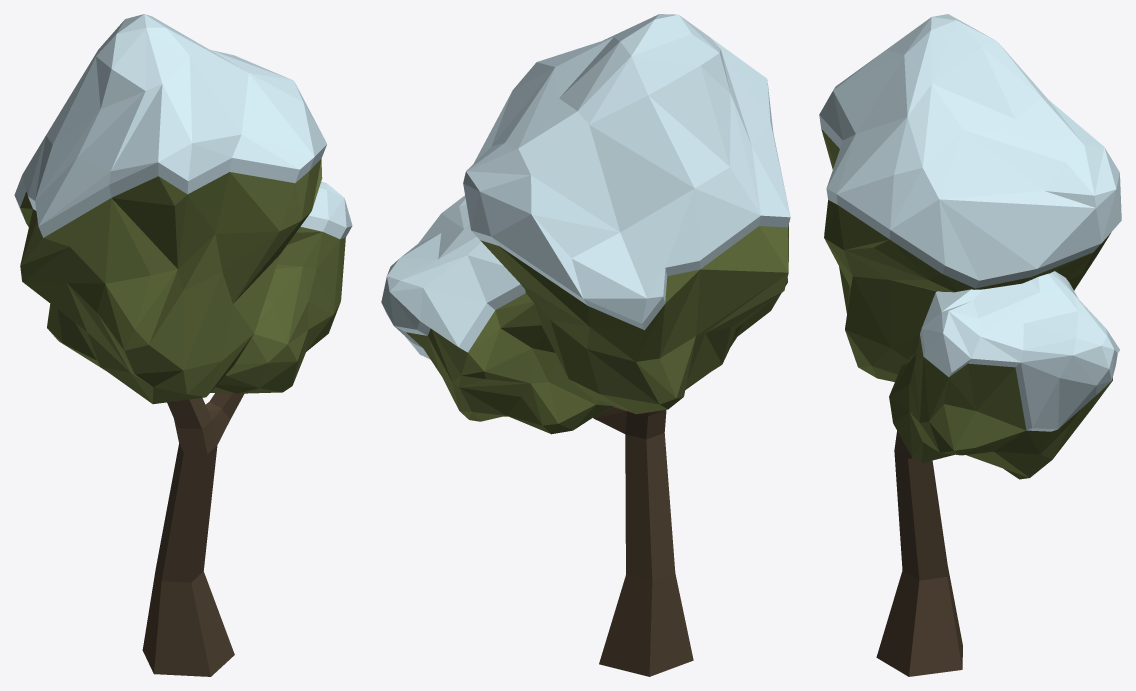
The model's file is SM_Env_Tree_06_Snow.gltf.
The picture shows the model from 3 angles, left to right: view 1: azimuth 30°, elevation 25°; view 2: azimuth 150°, elevation 25°; view 3: azimuth 270°, elevation 25°; orthographic projection. The views are drawn at different scales.
Visible parts, largest first — view 1: SM_Env_Tree_06_Snow; view 2: SM_Env_Tree_06_Snow; view 3: SM_Env_Tree_06_Snow.
Part boxes in pixels (left/top/right/bottom): SM_Env_Tree_06_Snow: left=14, top=14, right=352, bottom=676; SM_Env_Tree_06_Snow: left=381, top=14, right=790, bottom=676; SM_Env_Tree_06_Snow: left=819, top=14, right=1121, bottom=676.
Bounding box in the file's own units: 3.28 × 6 × 2.63.
Materials: 1 (1 with a texture image).
